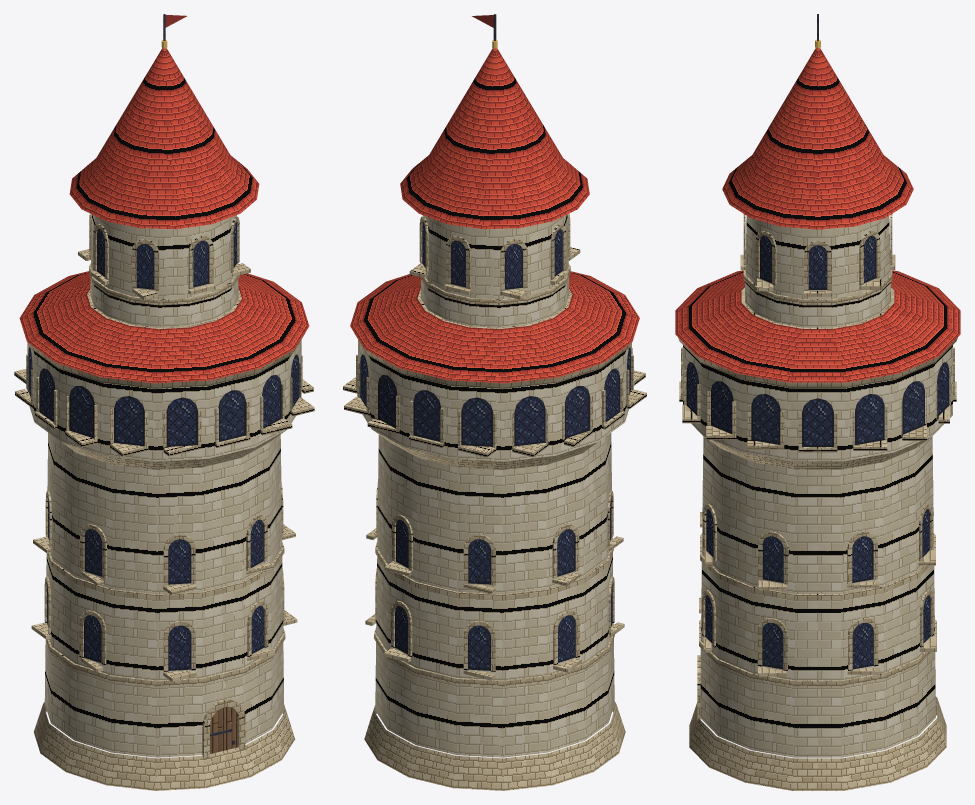
The model's file is med_round_tower_3.glb.
3 views of the same model, side by side, from view 1: azimuth 30°, elevation 25°; view 2: azimuth 150°, elevation 25°; view 3: azimuth 270°, elevation 25° (orthographic).
Visible parts, largest first — view 1: med_round_tower_4; view 2: med_round_tower_4; view 3: med_round_tower_4.
Boxes of the visible parts, x1=… form: med_round_tower_4: x1=14, y1=14, x2=314, y2=790; med_round_tower_4: x1=343, y1=14, x2=646, y2=790; med_round_tower_4: x1=675, y1=14, x2=960, y2=790.
Size of the model in its own units: 9.02 by 25.2 by 9.02.
Materials: 8 (8 with a texture image).
